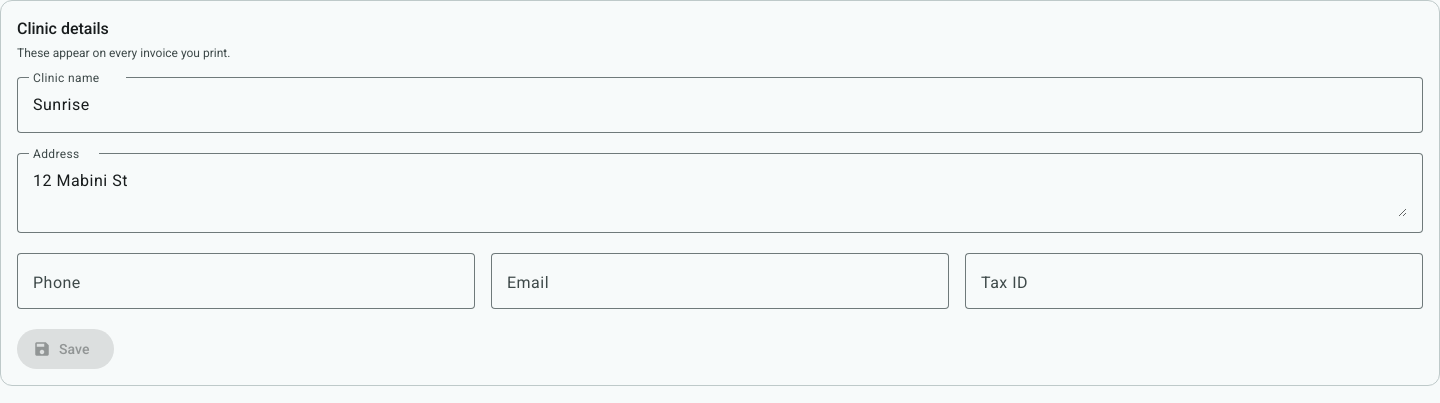
Test: ClinicProfileComponent › keeps Save disabled until something actually changes
Check: the button "Save" is disabled, box [17,329,114,369]
Replace the text in the field labelled "Clinic name" with "Sunrise Family Clinic" at (720, 105), box [33,93,1407,117]
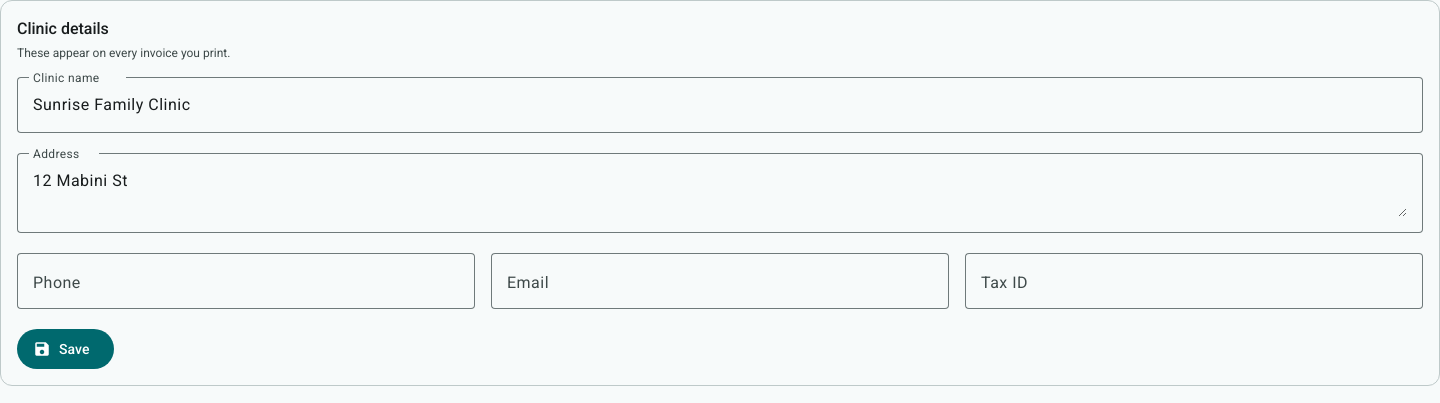
Check: the button "Save" is enabled, box [17,329,114,369]
